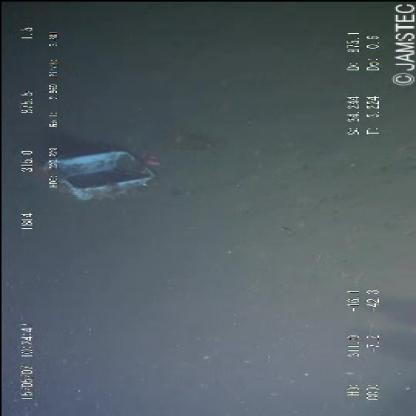Rác: (38, 144, 164, 204)
